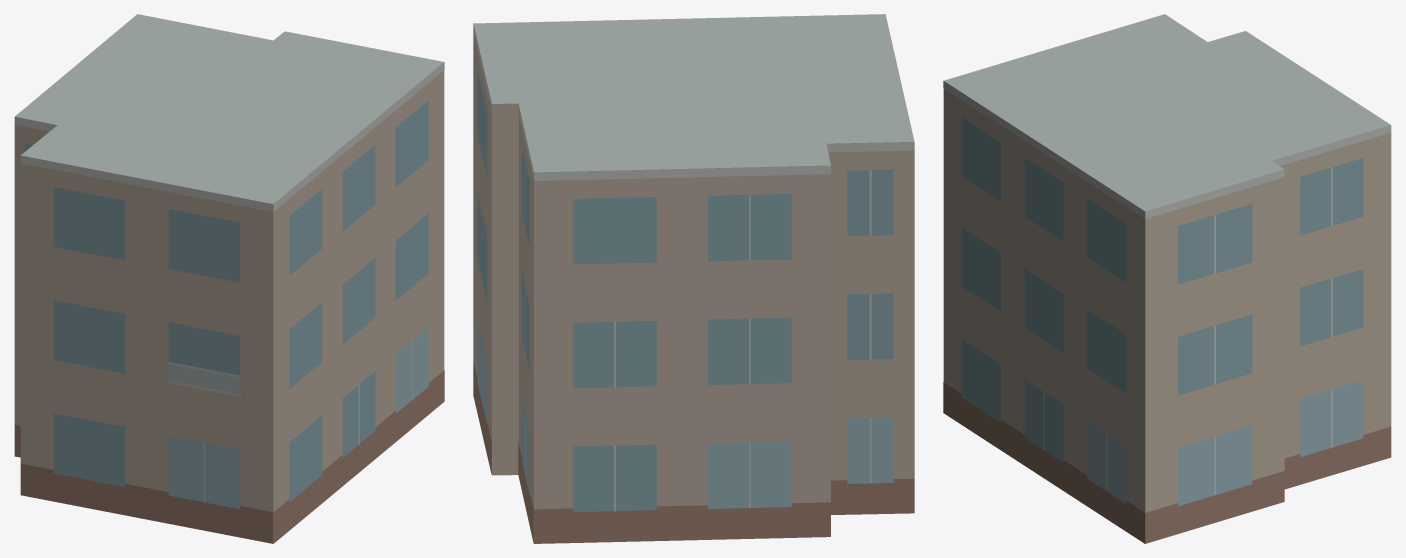
The model's file is survey-upis-32772692.glb.
3 renders of one model, left to right at view 1: azimuth 30°, elevation 25°; view 2: azimuth 150°, elevation 25°; view 3: azimuth 270°, elevation 25°, orthographic. The views are drawn at different scales.
Parts seen in each view (by area): view 1: survey-upis-32772692.tmp; view 2: survey-upis-32772692.tmp; view 3: survey-upis-32772692.tmp.
Part boxes in pixels (left/top/right/bottom): survey-upis-32772692.tmp: left=14, top=14, right=444, bottom=543; survey-upis-32772692.tmp: left=473, top=14, right=914, bottom=543; survey-upis-32772692.tmp: left=943, top=14, right=1391, bottom=543.
Size of the model in its own units: 13.39 by 10.5 by 12.83.
